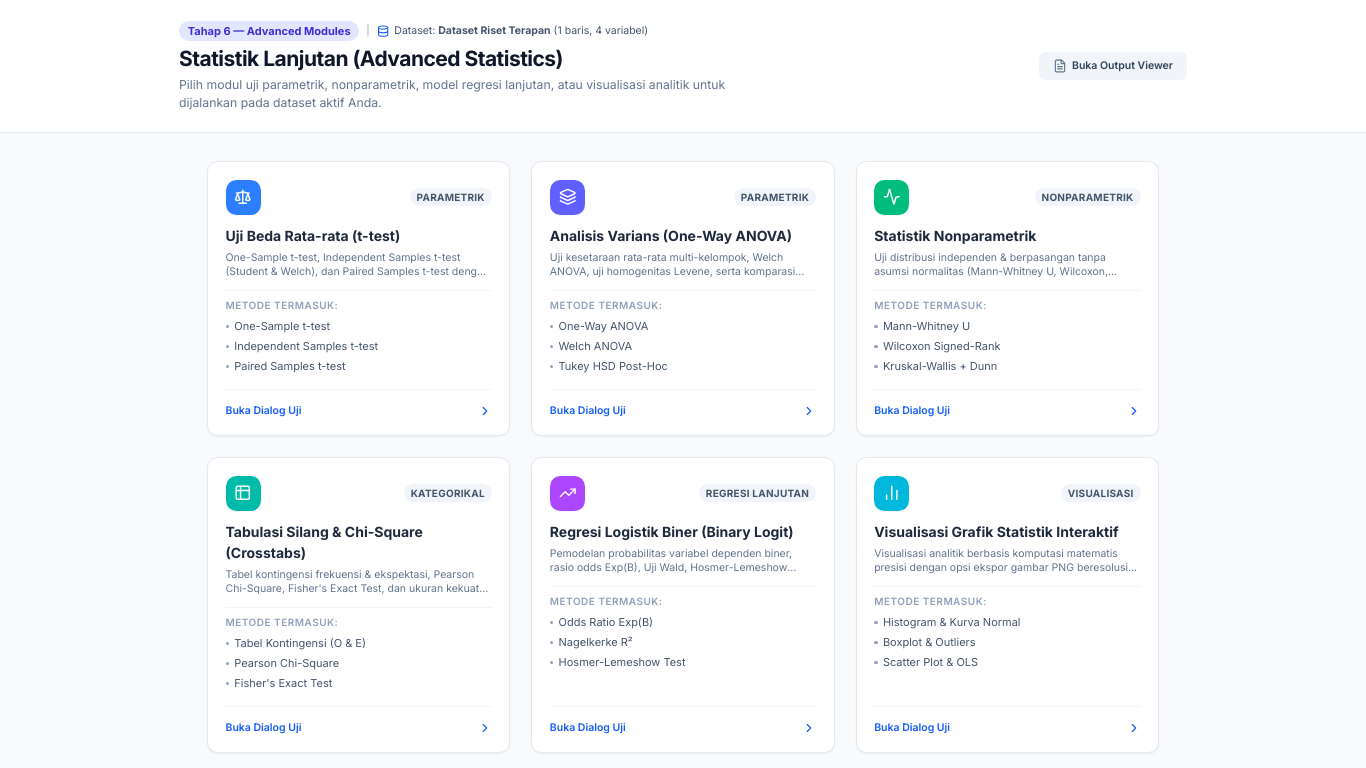
Test: Tahap 6 — Advanced Statistics Modules › dapat membuka dialog Uji Beda t-test saat kartu diklik
// Klik kartu t-test
Click the heading "Uji Beda Rata-rata (t-test)" at coordinates (313, 236), box [226, 227, 400, 244]
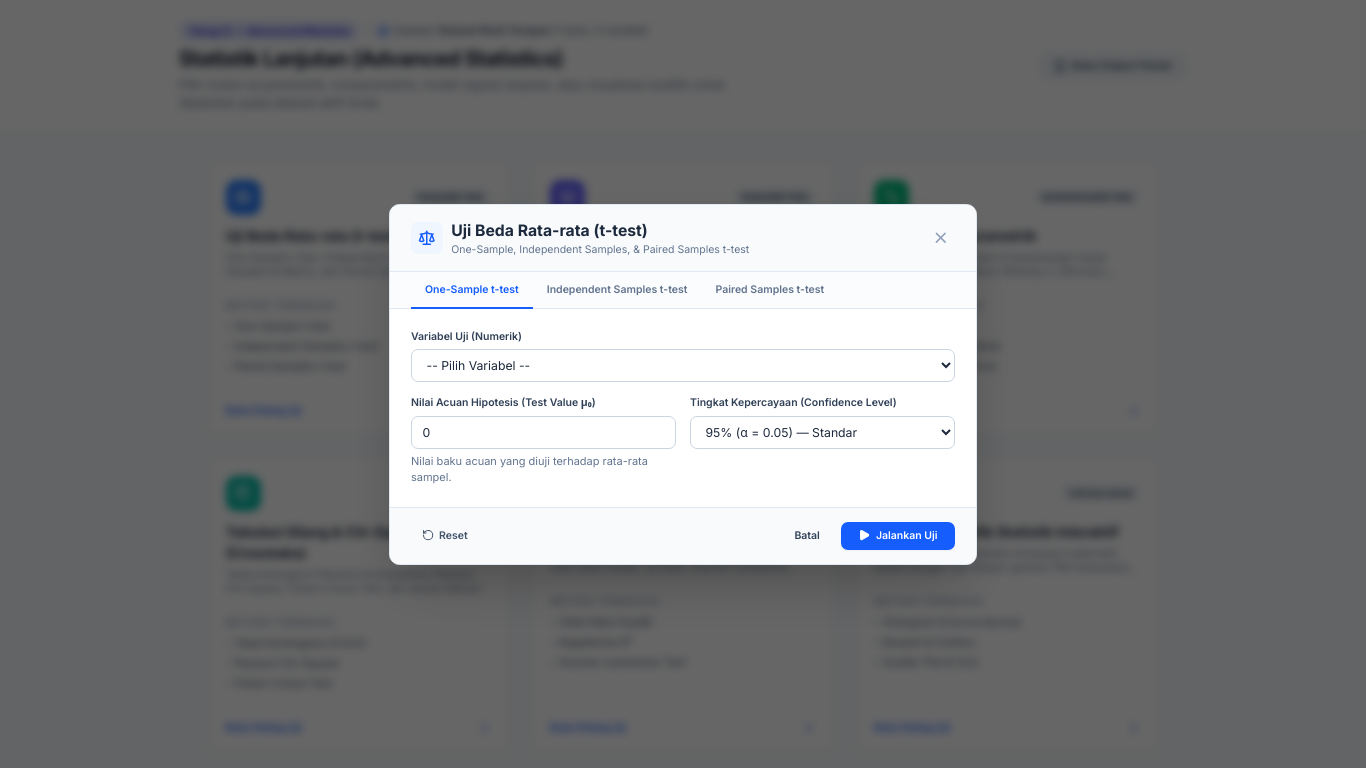
Now the button "One-Sample t-test" is shown, box [411, 272, 533, 309]
Now the button "Independent Samples t-test" is shown, box [533, 272, 702, 309]
Now the button "Paired Samples t-test" is shown, box [702, 272, 838, 309]
